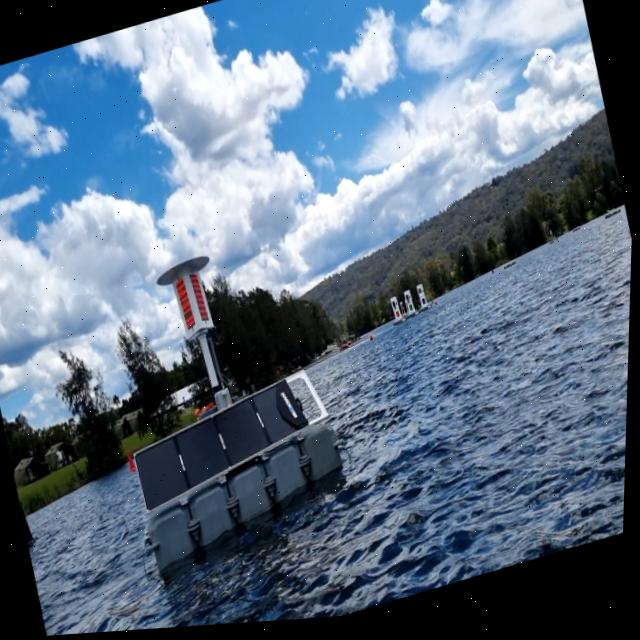led: (187, 269, 213, 330), (175, 278, 200, 335)
